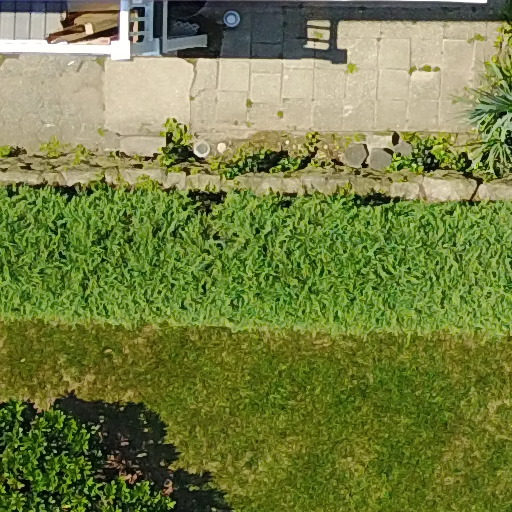container: (192, 136, 213, 161)
